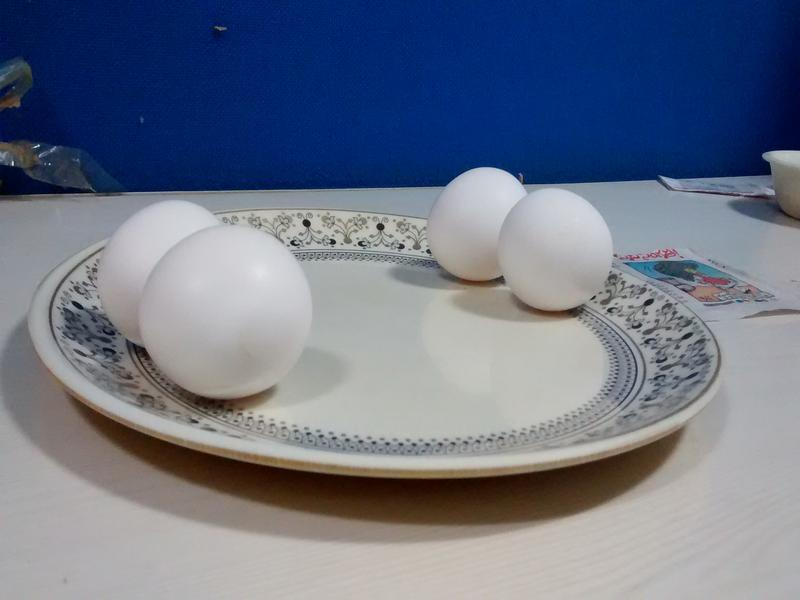egg: (148, 228, 313, 400)
